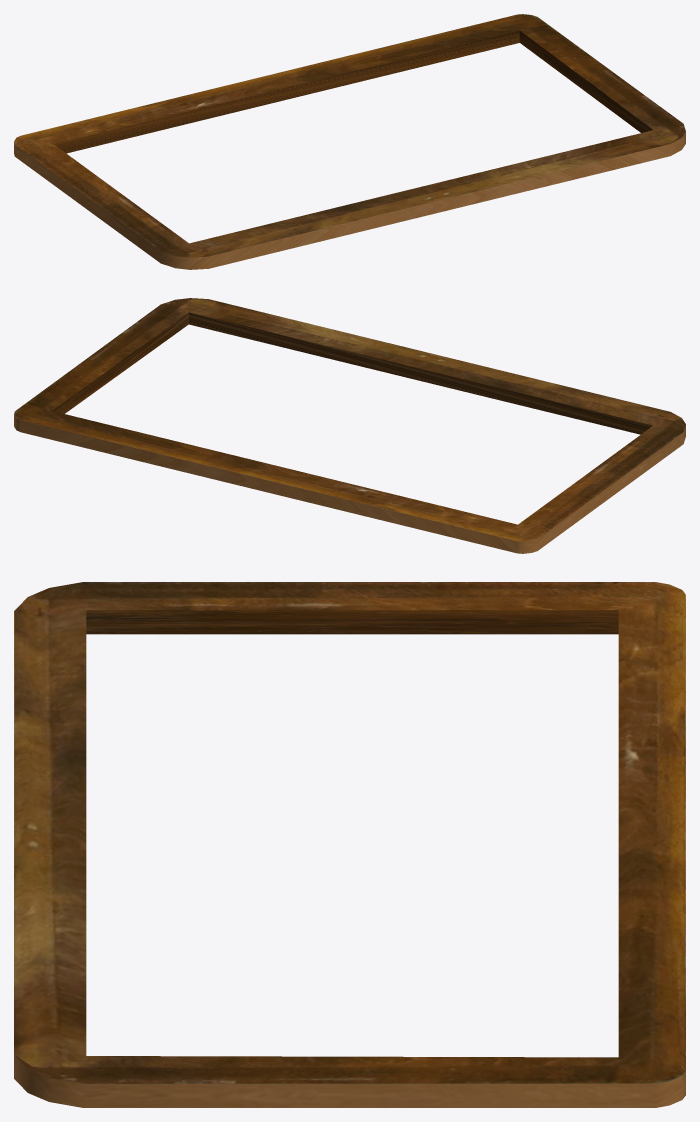
File: wooden_border.obj
3 renders of one model, top to bottom at view 1: azimuth 30°, elevation 25°; view 2: azimuth 150°, elevation 25°; view 3: azimuth 270°, elevation 25°, orthographic. The views are drawn at different scales.
Visible parts, largest first — view 1: lower_cover_Cube.024; view 2: lower_cover_Cube.024; view 3: lower_cover_Cube.024.
Part boxes in pixels (x1,y1,x2,y2): lower_cover_Cube.024: [14, 14, 685, 269]; lower_cover_Cube.024: [14, 298, 685, 553]; lower_cover_Cube.024: [14, 582, 685, 1107].
Bounding box in the file's own units: 1.14 × 0.0256 × 0.6481.
